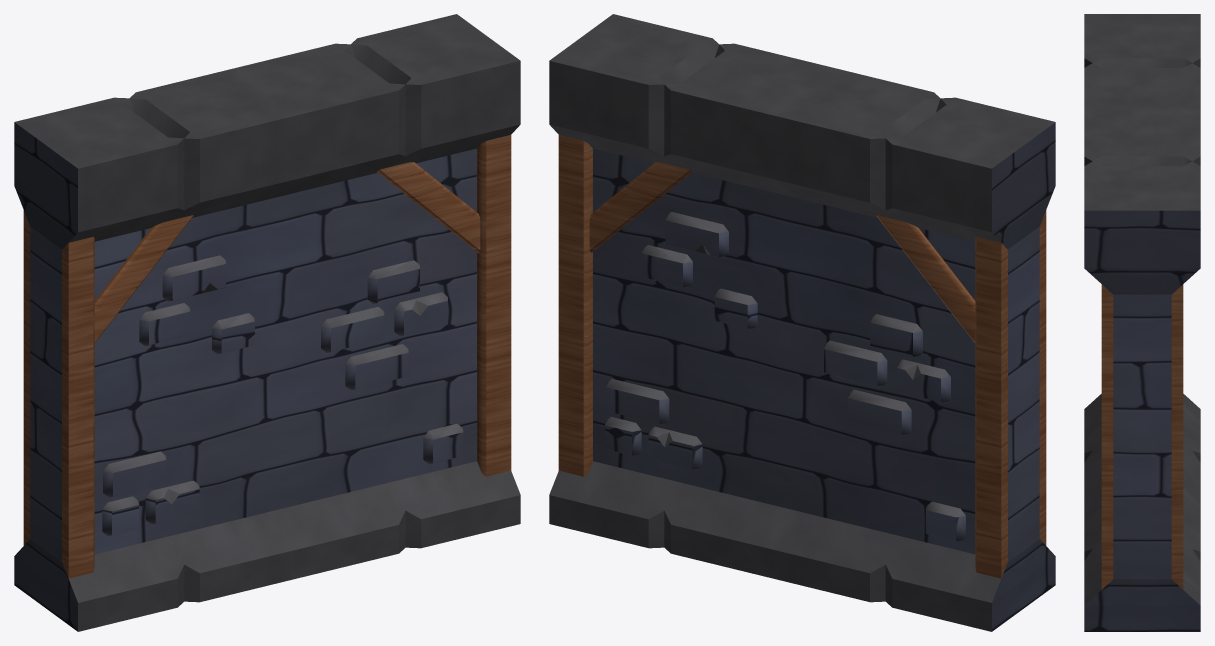
File: wall_scaffold.gltf
The picture shows the model from 3 angles, left to right: view 1: azimuth 30°, elevation 25°; view 2: azimuth 150°, elevation 25°; view 3: azimuth 270°, elevation 25°; orthographic projection. The views are drawn at different scales.
Parts seen in each view (by area): view 1: wall_scaffold; view 2: wall_scaffold; view 3: wall_scaffold.
Boxes of the visible parts, x1,y1,x2,y2 form: wall_scaffold: (14,14,520,631); wall_scaffold: (549,14,1055,631); wall_scaffold: (1084,14,1200,631).
Size of the model in its own units: 4 by 4 by 1.
3 materials, 3 textured.
